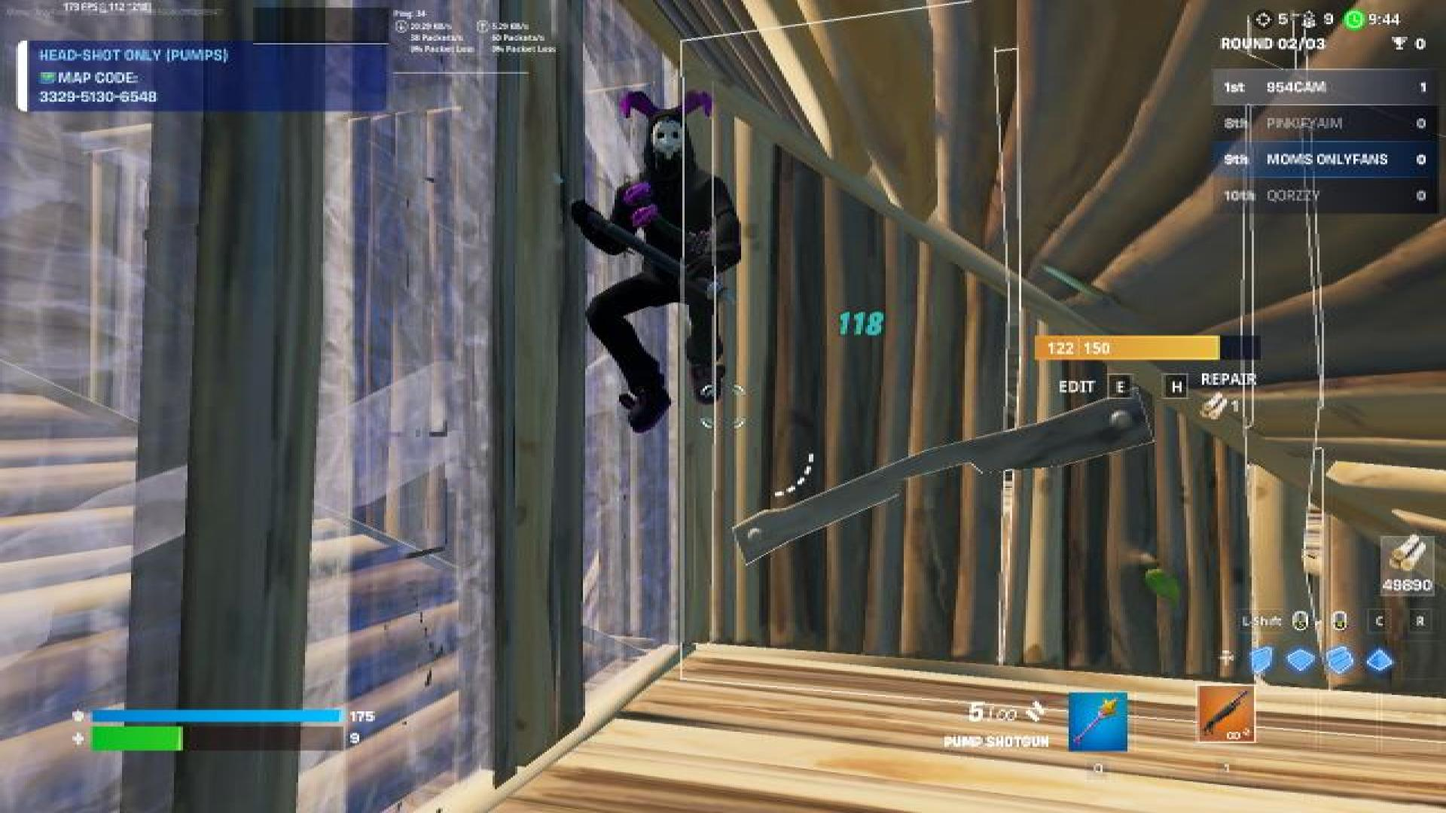player: (548, 104, 842, 441)
